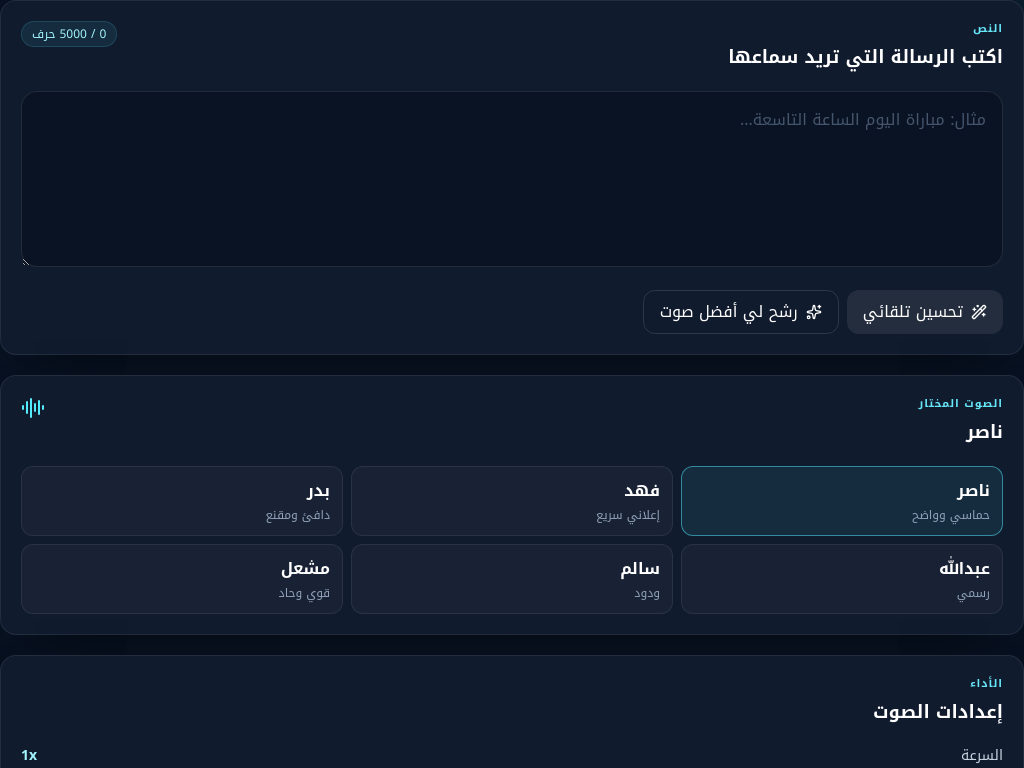
Test: StudioWorkspace › asks for the improvement scope before changing anything
Click the button "تحسين تلقائي" at [925, 312], box [847,290,1003,334]
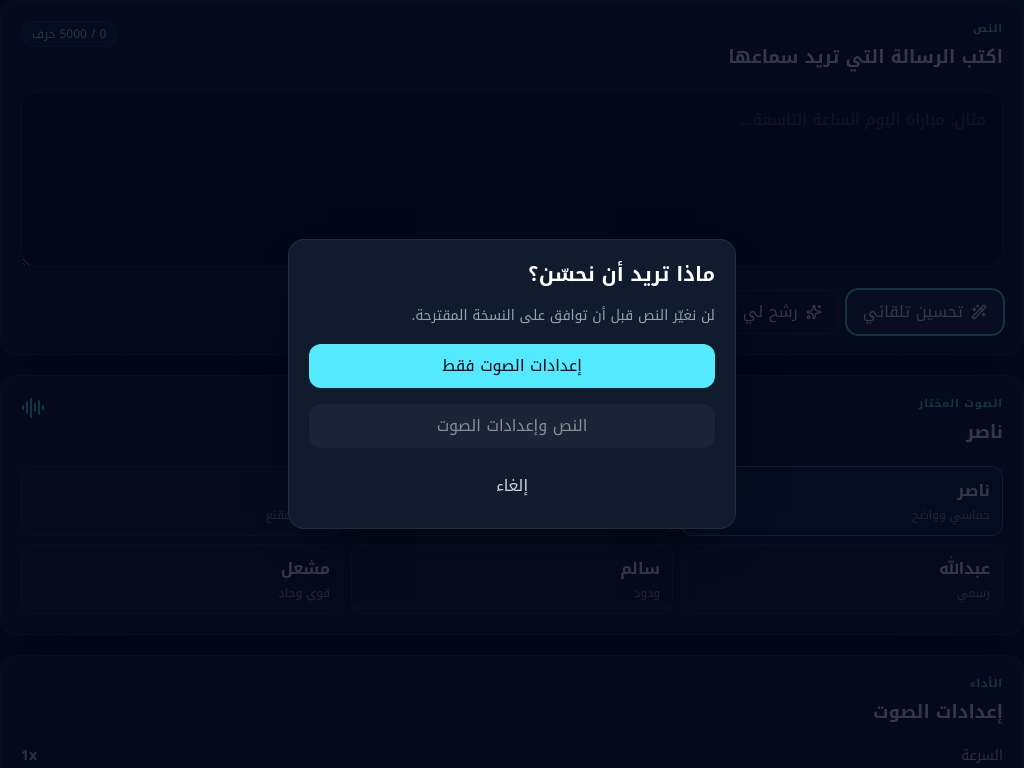
Result: the heading "ماذا تريد أن نحسّن؟" is shown at [528,255,715,293]
Result: the button "إعدادات الصوت فقط" is shown at [309,344,715,388]
Result: the button "النص وإعدادات الصوت" is shown at [309,404,715,448]
